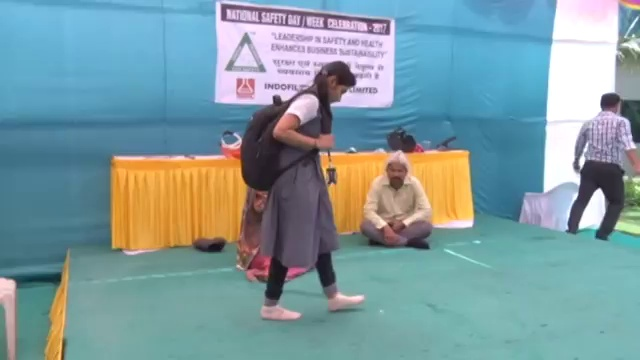helmet_off: (314, 62, 355, 106), (384, 152, 409, 188), (599, 93, 622, 114)
person: (237, 63, 365, 323), (568, 92, 640, 241), (362, 149, 436, 252)
